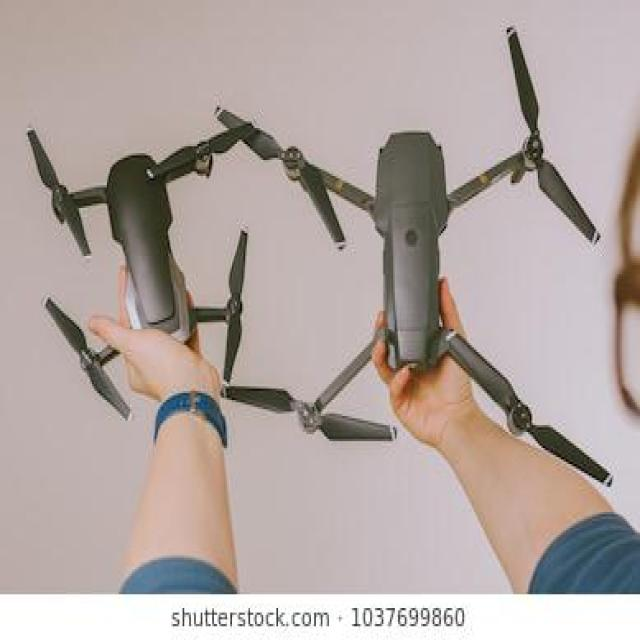drone: (0, 14, 640, 504)
